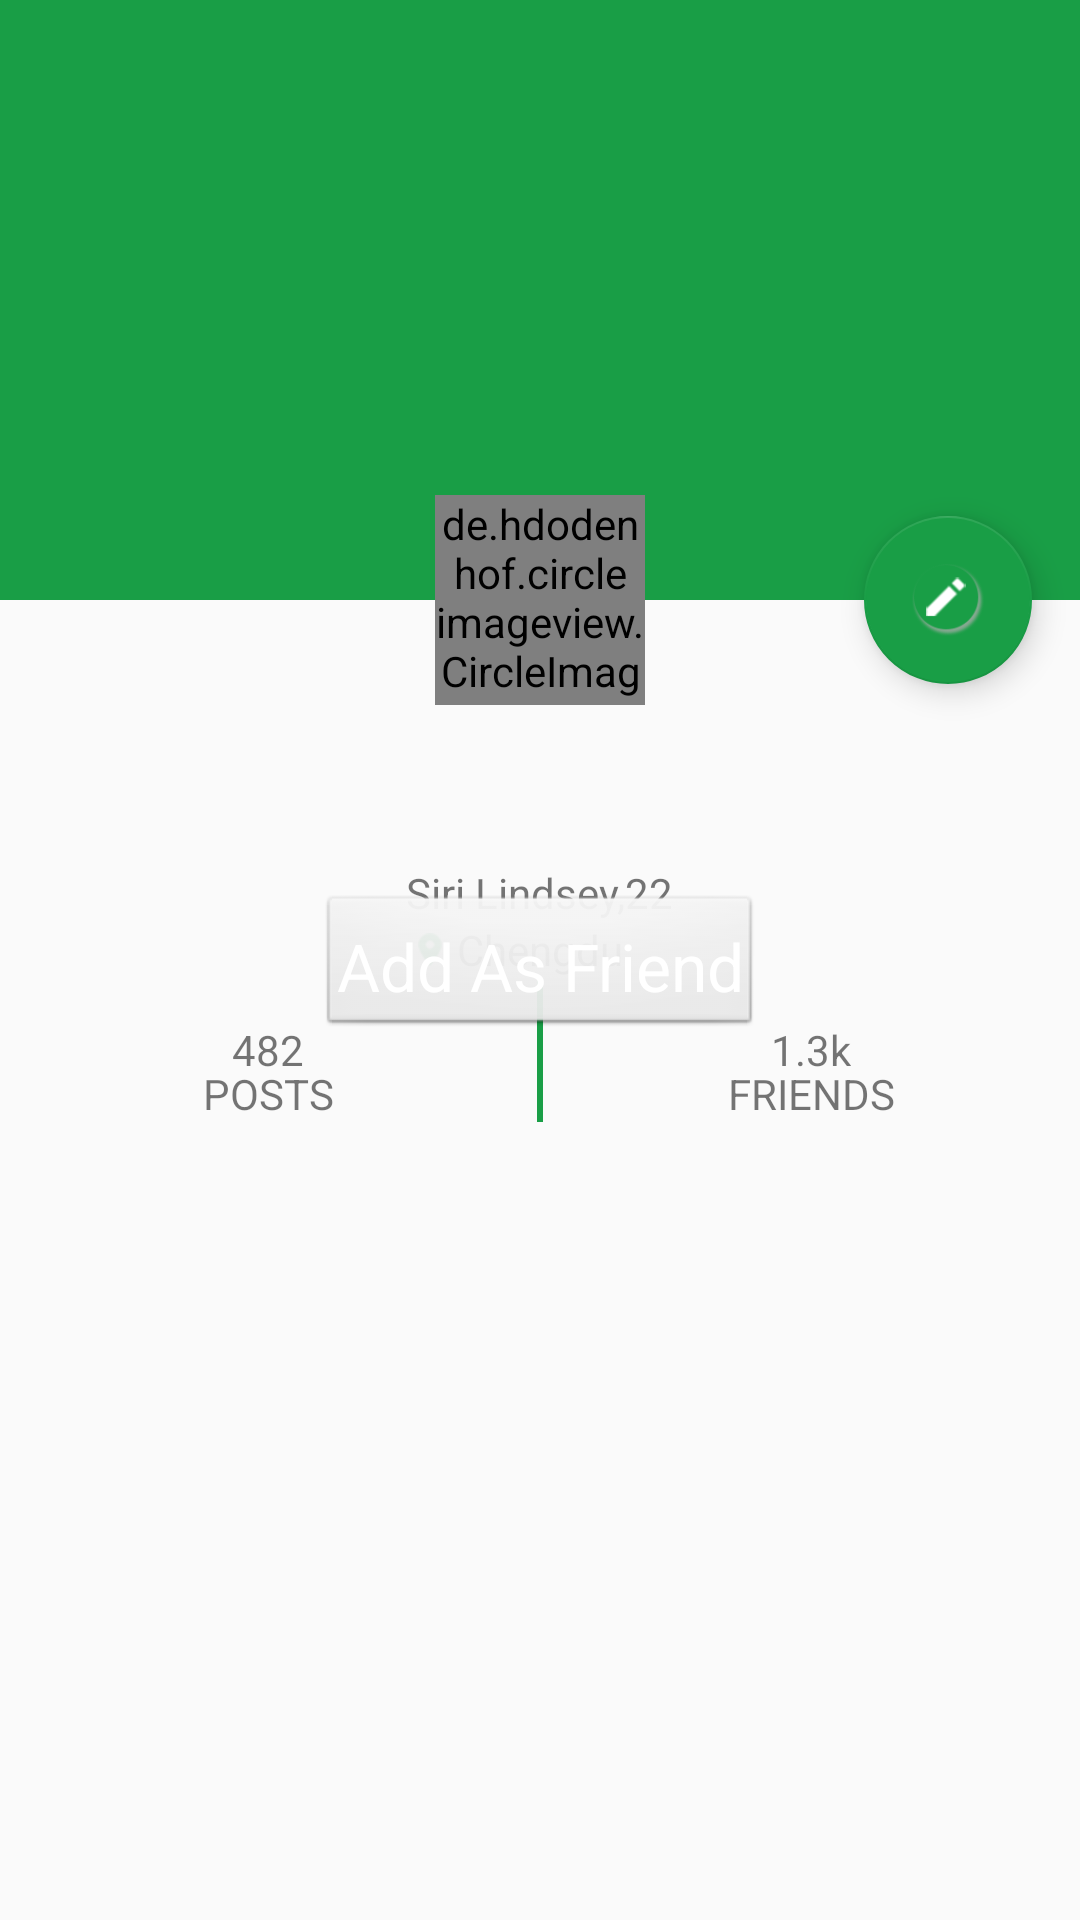

Icons on this 1080 × 1920 Android screen, each with the point to tap as point (x, y):
edit profile: point (948, 600)
